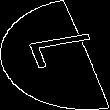L_E: (11, 34, 99, 76)
